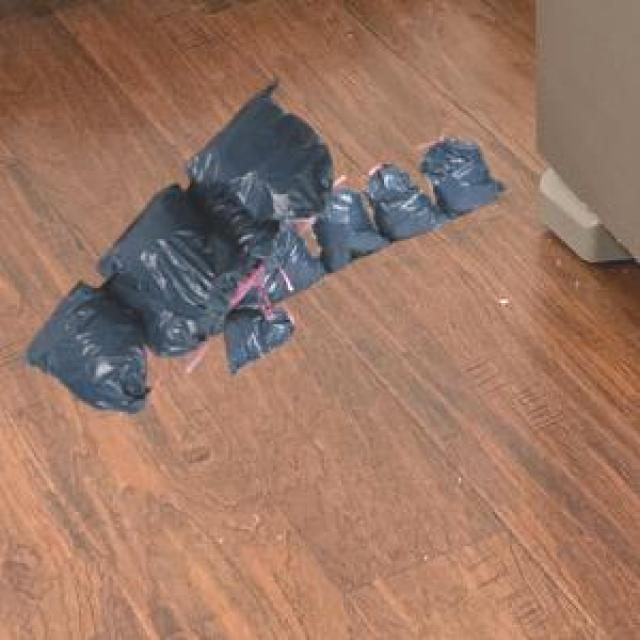Trashbag: (96, 185, 236, 315), (185, 84, 327, 205), (26, 288, 146, 414), (426, 136, 505, 217), (368, 162, 437, 244), (216, 308, 294, 377), (315, 191, 381, 271), (256, 226, 326, 301)
